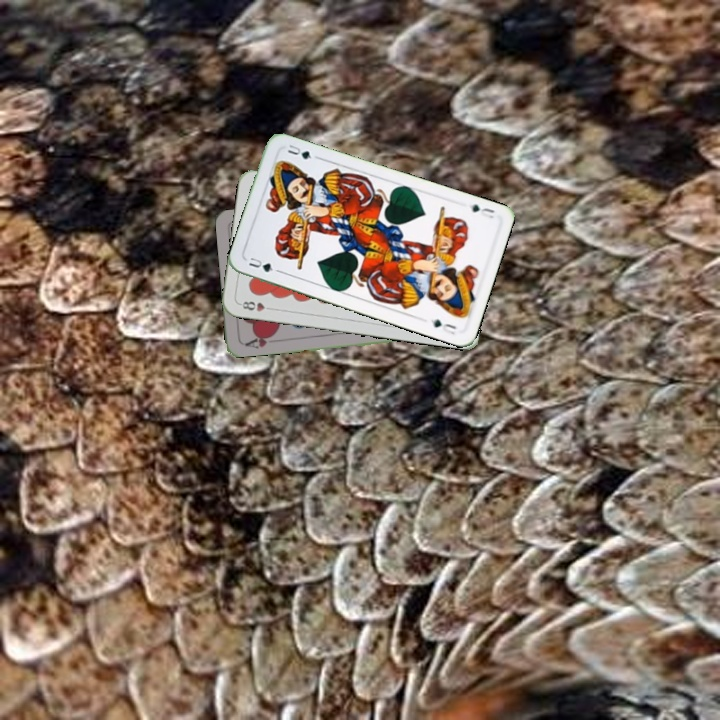GU: (245, 253, 282, 275), (465, 200, 497, 221)
H8: (236, 297, 276, 314)
HA: (241, 330, 280, 351)
